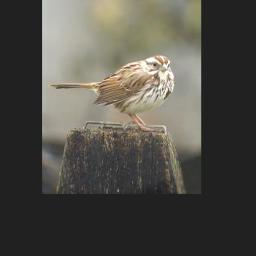Sparrow: (50, 54, 175, 132)
